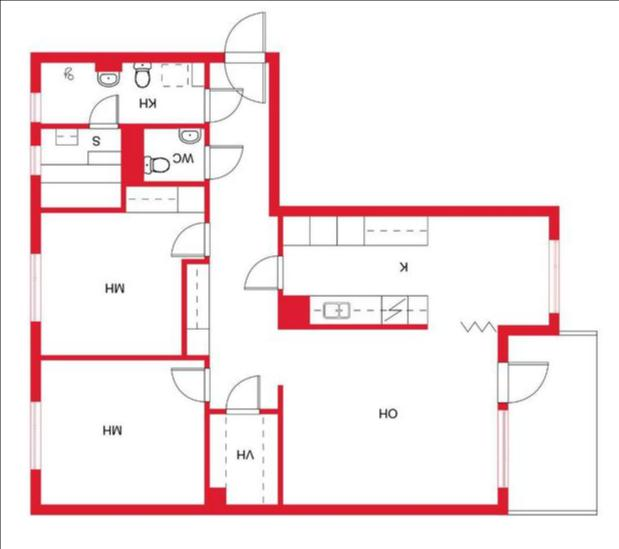door: (494, 359, 552, 406), (222, 52, 268, 106), (222, 10, 266, 63), (224, 372, 264, 416), (200, 143, 246, 181), (242, 252, 285, 292), (170, 364, 214, 403), (170, 219, 211, 260), (202, 84, 244, 123), (86, 88, 121, 132)
window: (492, 406, 510, 494), (546, 233, 562, 320), (26, 249, 43, 329), (27, 392, 42, 476), (28, 136, 43, 182), (26, 86, 42, 126)
